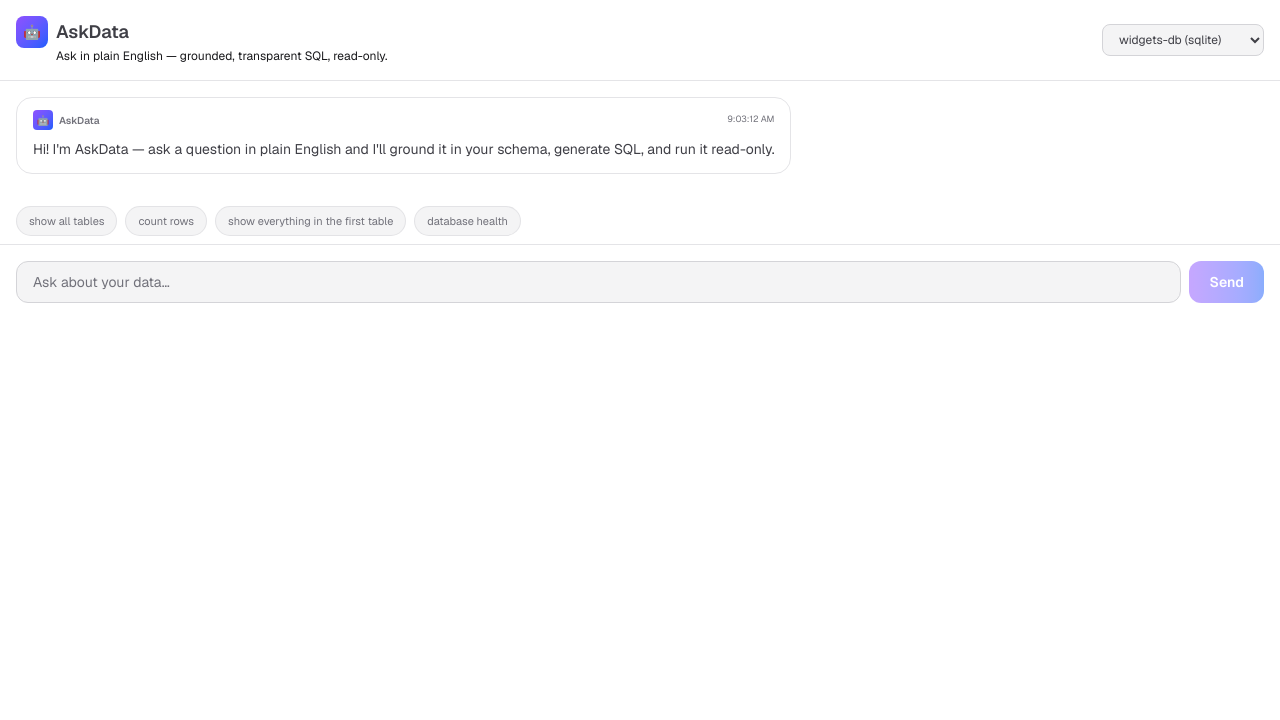
Scenario: AskDataView › reuses the session_id returned by the first turn on the next question
Type "first question" into the field with placeholder "Ask about your data…" at (599, 282), box [16, 261, 1182, 303]
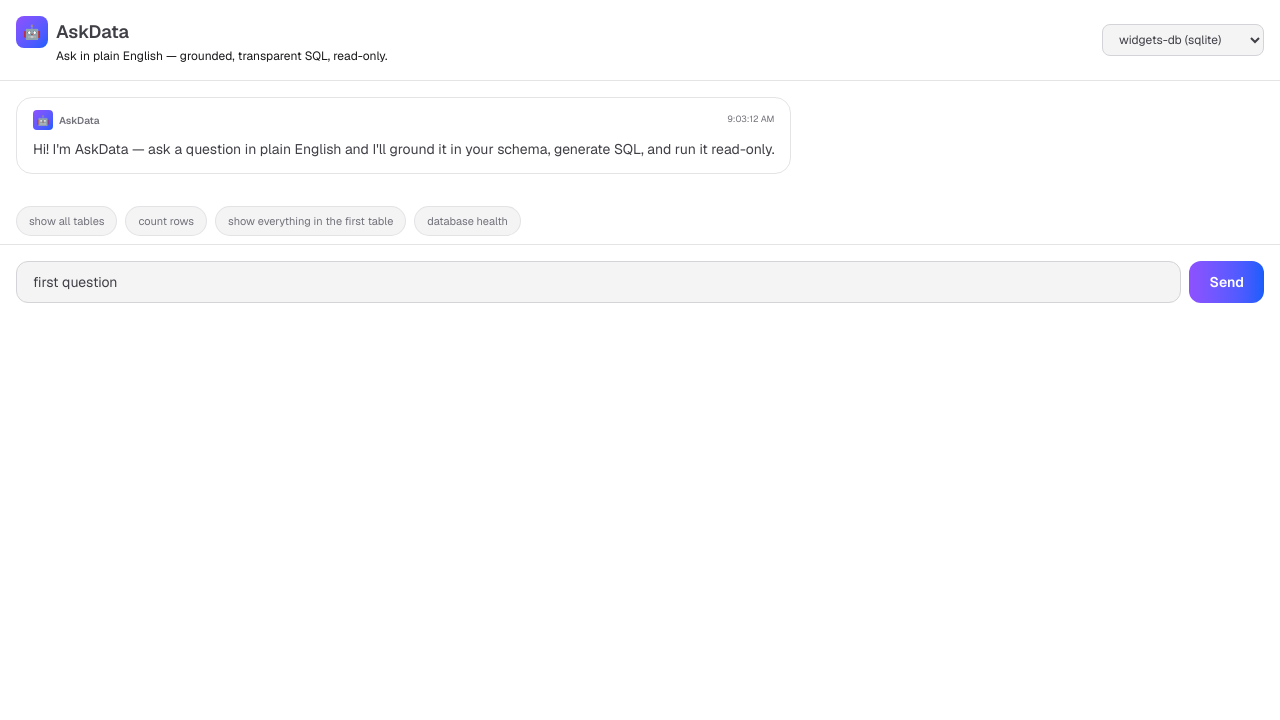
Click the button "Send" at (1227, 282), box [1190, 261, 1264, 303]
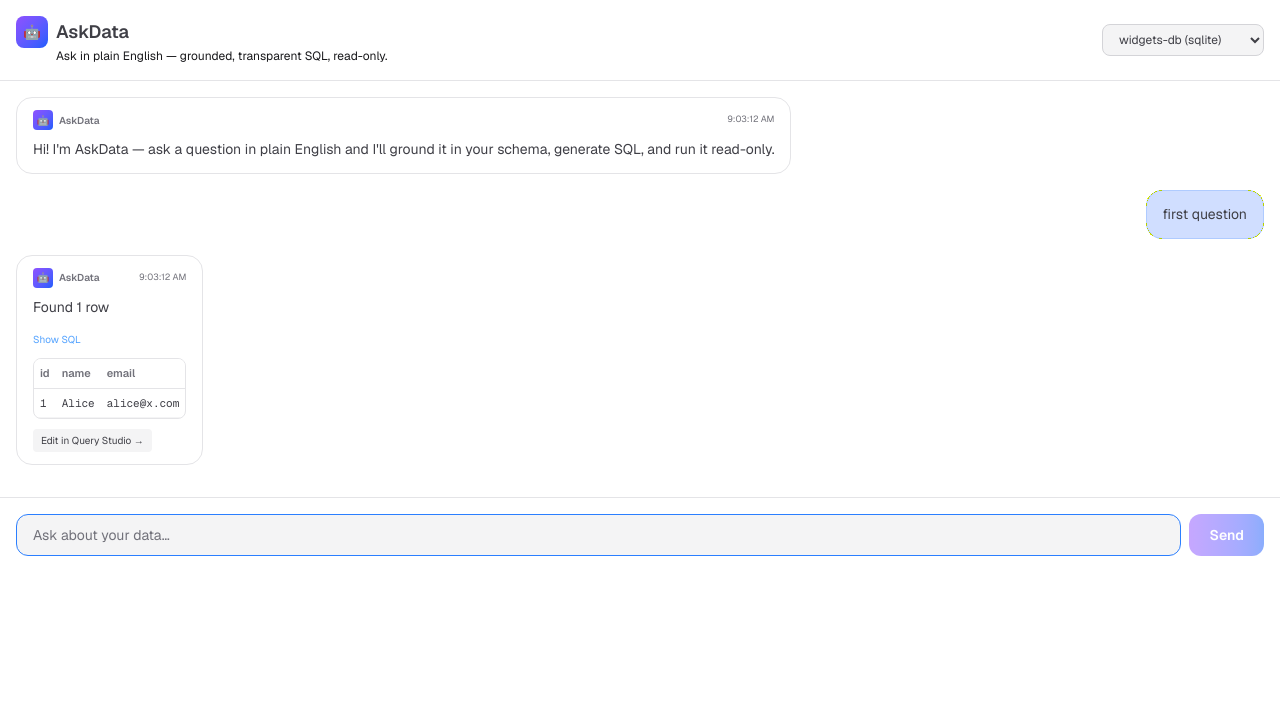
Check: the text "Found 1 row" is shown, box [33, 298, 109, 316]
Type "follow up" into the field with placeholder "Ask about your data…" at (599, 535), box [16, 514, 1182, 556]
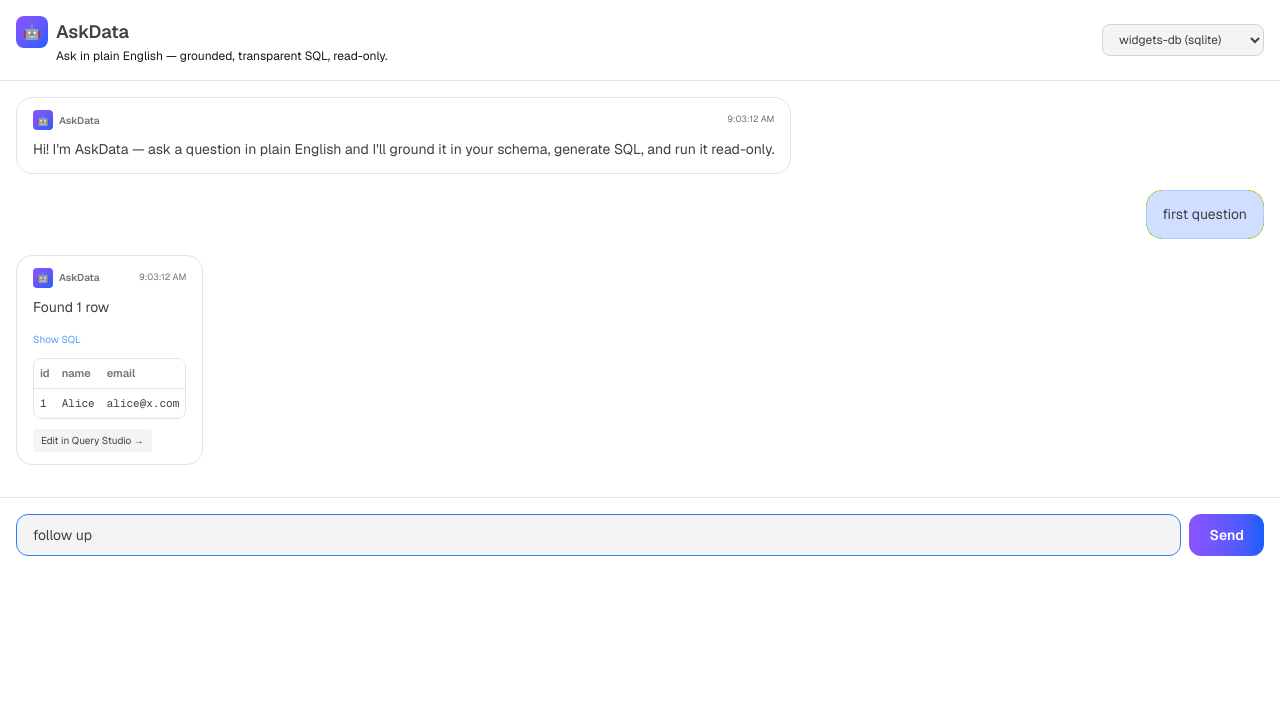
Click the button "Send" at (1227, 535), box [1190, 514, 1264, 556]
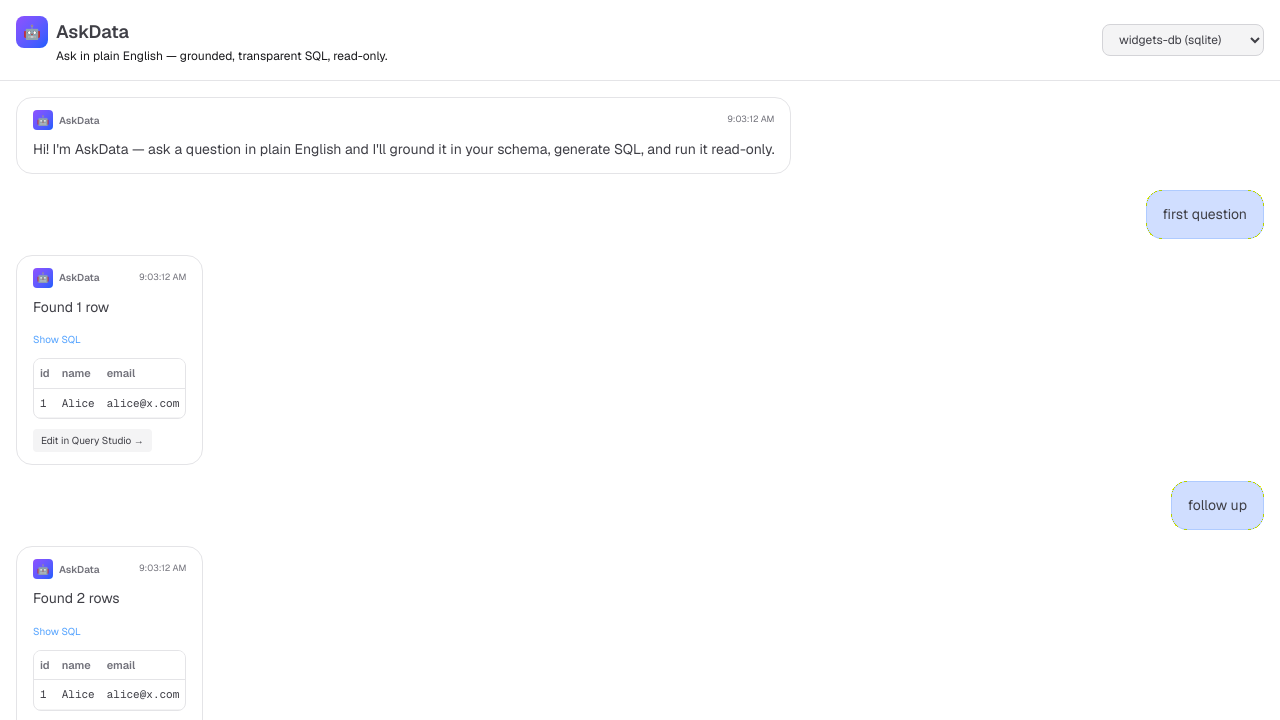
Check: the text "Found 2 rows" is shown, box [33, 589, 120, 607]
